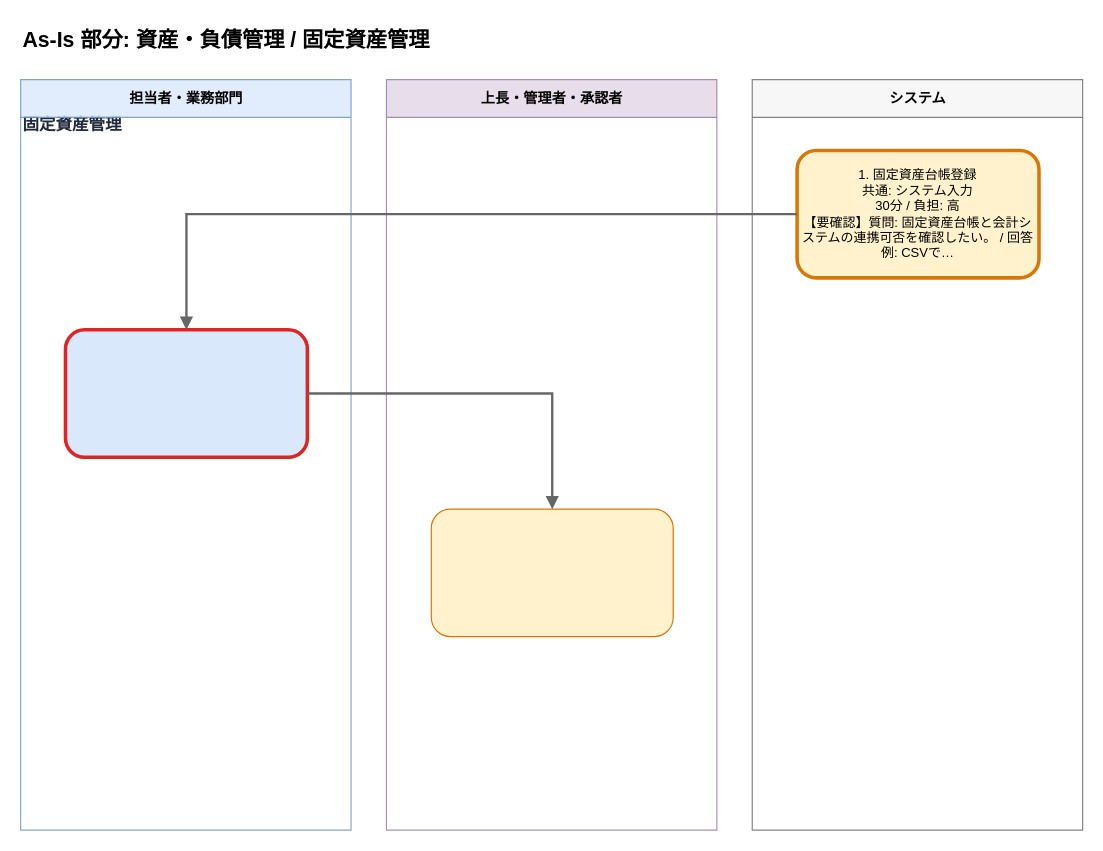
This 1103x851 diagram has some shape labels left out. Each missing label, with the centre of its shape:
"2. 固定資産現物確認 共通: 情報収集・照合 60分 / 負担: 高" goes at (186,392).
"3. 除却承認 共通: 承認・決裁 25分 / 負担: 中 【要確認】質問: 除却時の稟議・台帳更新フローを確認したい。 / 回答例: 担当者が作成し、…" goes at (551,572).
